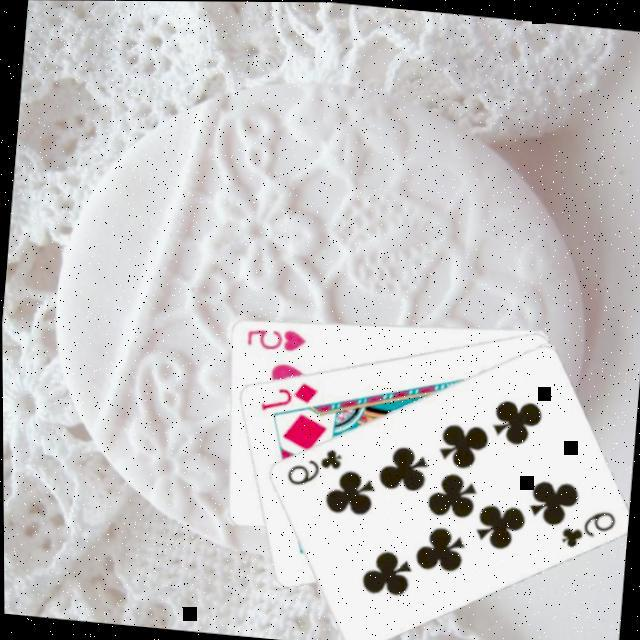5H: (240, 320, 306, 353)
9C: (279, 439, 343, 490), (552, 501, 616, 552)
JD: (253, 372, 318, 416)
